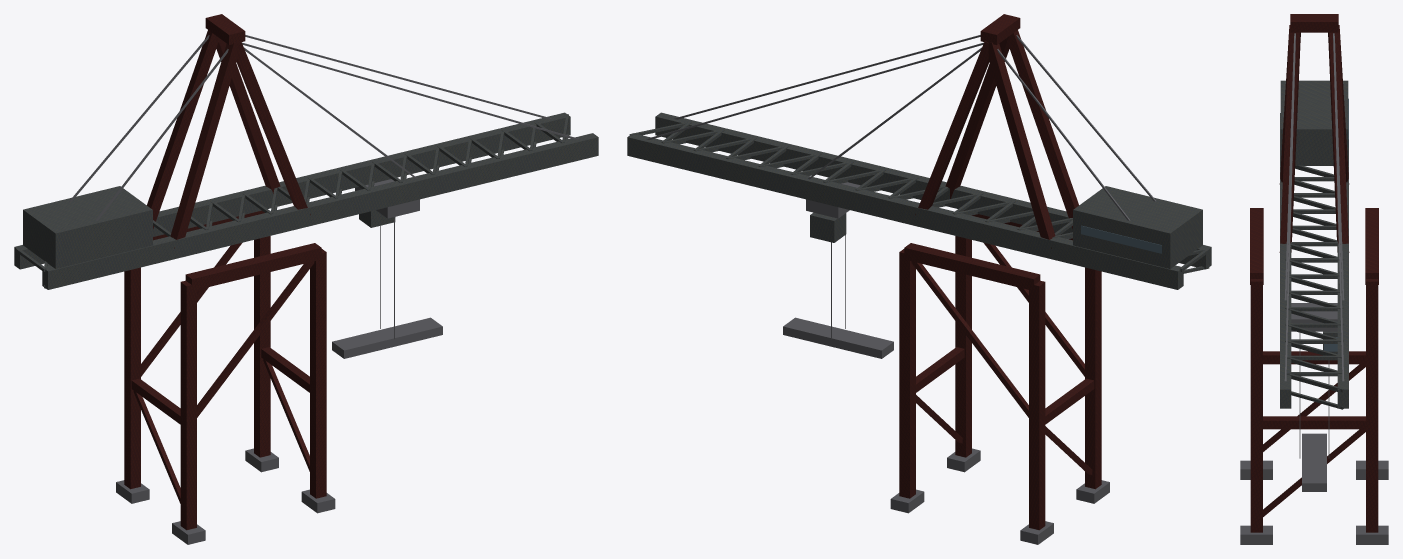
Rendered from port_crane.glb.
The picture shows the model from 3 angles, left to right: view 1: azimuth 30°, elevation 25°; view 2: azimuth 150°, elevation 25°; view 3: azimuth 270°, elevation 25°; orthographic projection. The views are drawn at different scales.
Visible parts, largest first — view 1: port_crane; view 2: port_crane; view 3: port_crane.
Boxes of the visible parts, x1,y1,x2,y2 form: port_crane: [14, 14, 598, 544]; port_crane: [627, 14, 1211, 544]; port_crane: [1240, 14, 1388, 544].
Size of the model in its own units: 68.3 by 56.2 by 15.4.
4 materials, 2 textured.
